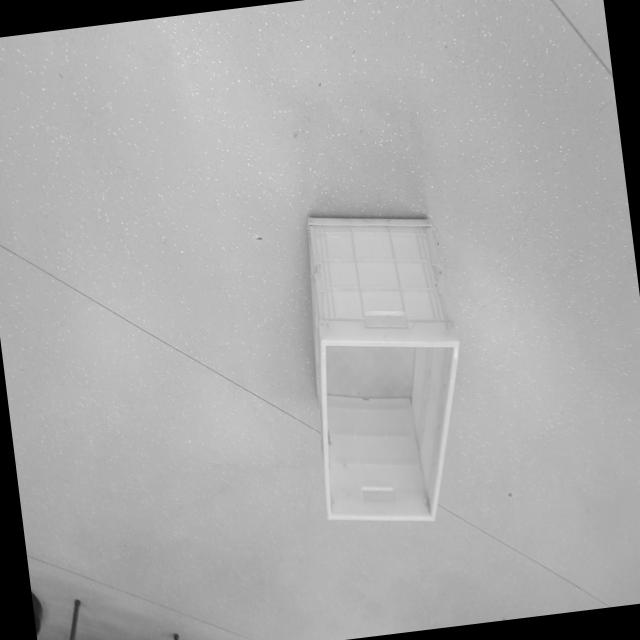box: (288, 186, 487, 540)
